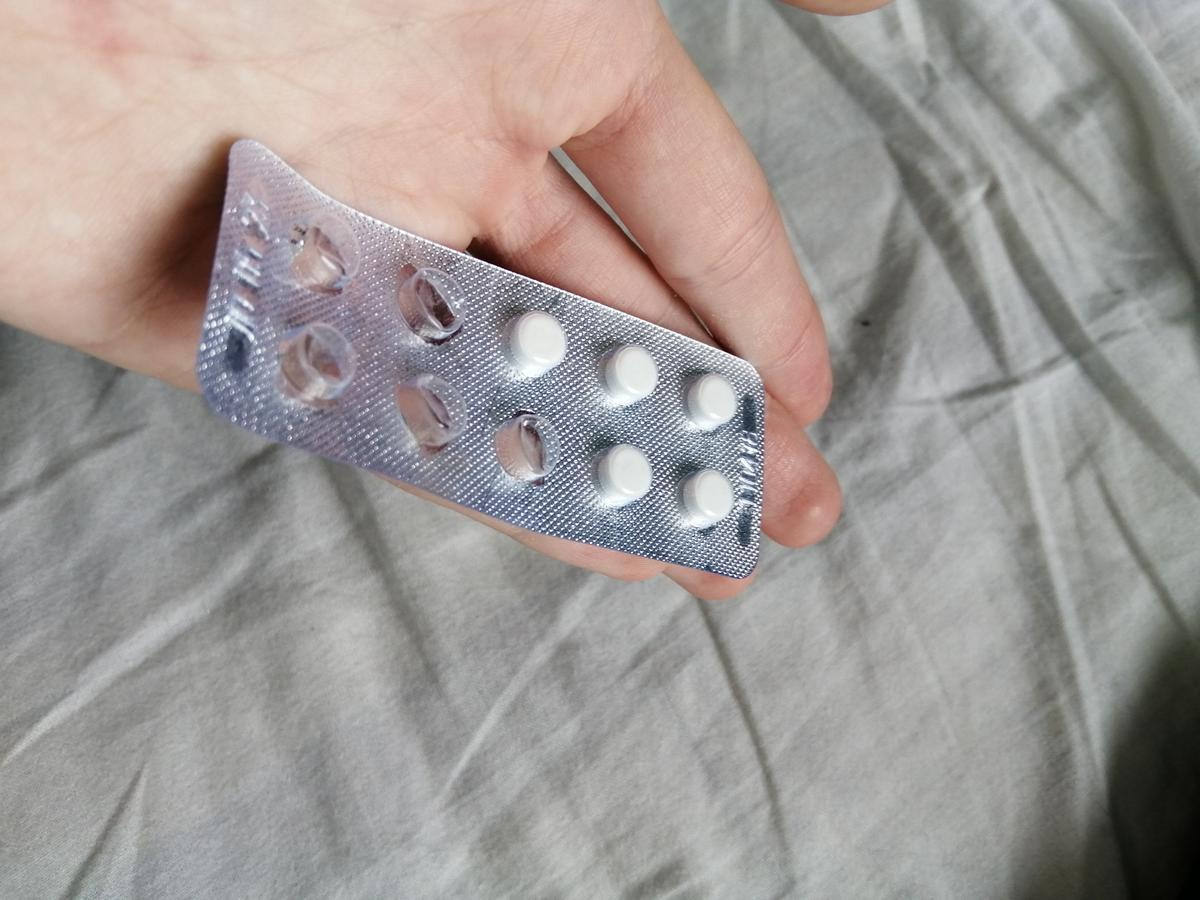tablet: (594, 442, 658, 511), (679, 464, 739, 534), (601, 340, 660, 404), (509, 309, 570, 370), (690, 372, 739, 428)
